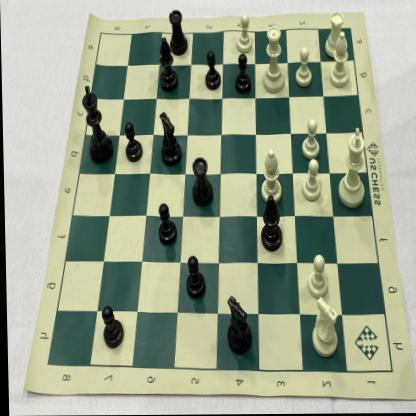black-bishop: (255, 193, 284, 256), (156, 32, 179, 96)
black-king: (80, 82, 114, 167)
black-knight: (219, 291, 254, 359), (157, 108, 183, 171)
black-pawn: (97, 300, 127, 354), (180, 251, 208, 303), (153, 200, 178, 249), (230, 51, 254, 97), (122, 118, 145, 165), (203, 49, 223, 95)
black-rook: (187, 152, 216, 210), (166, 7, 190, 61)
white-bishop: (257, 144, 285, 207), (327, 30, 352, 91)
white-king: (334, 124, 370, 212)
white-knight: (308, 293, 341, 361)
white-pawn: (303, 251, 332, 302), (298, 158, 324, 205), (300, 116, 323, 162), (293, 46, 315, 91), (234, 12, 256, 56)
white-queen: (260, 23, 287, 97)
white-rook: (321, 7, 347, 60)
